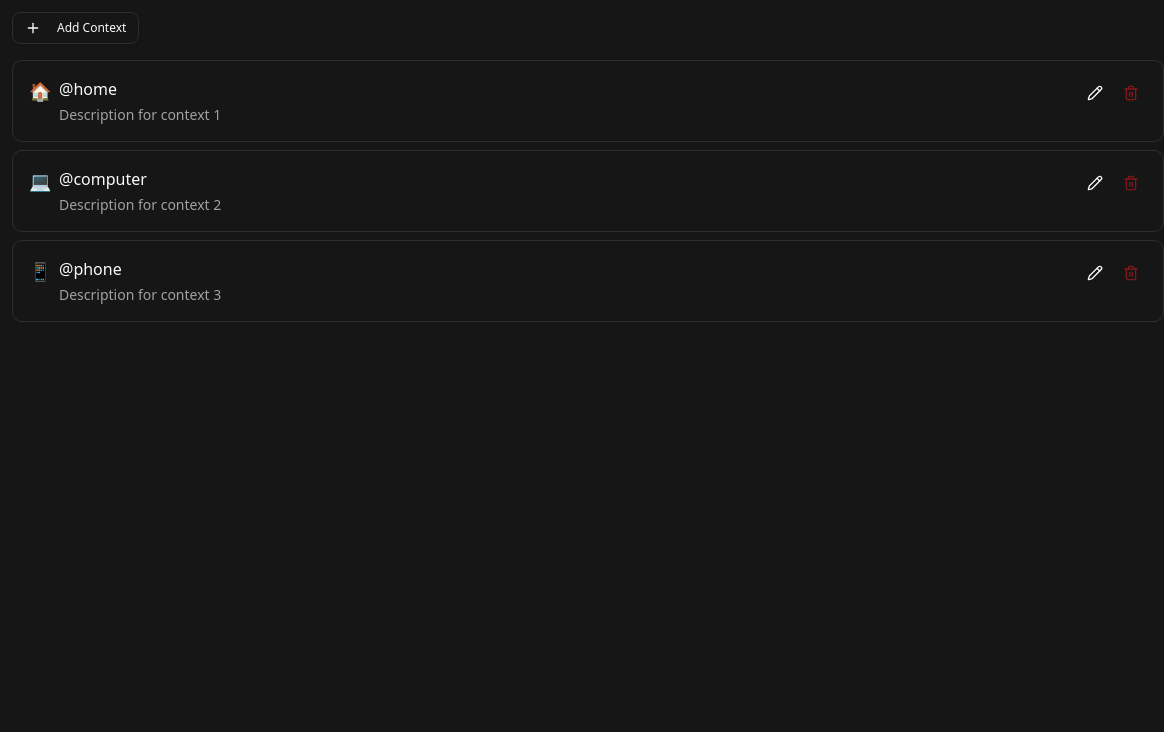
Scenario: ContextManager › creating contexts › validates that name is required
Click the button "Add Context".
click(76, 28)  # box top-left (12, 12), bottom-right (139, 44)
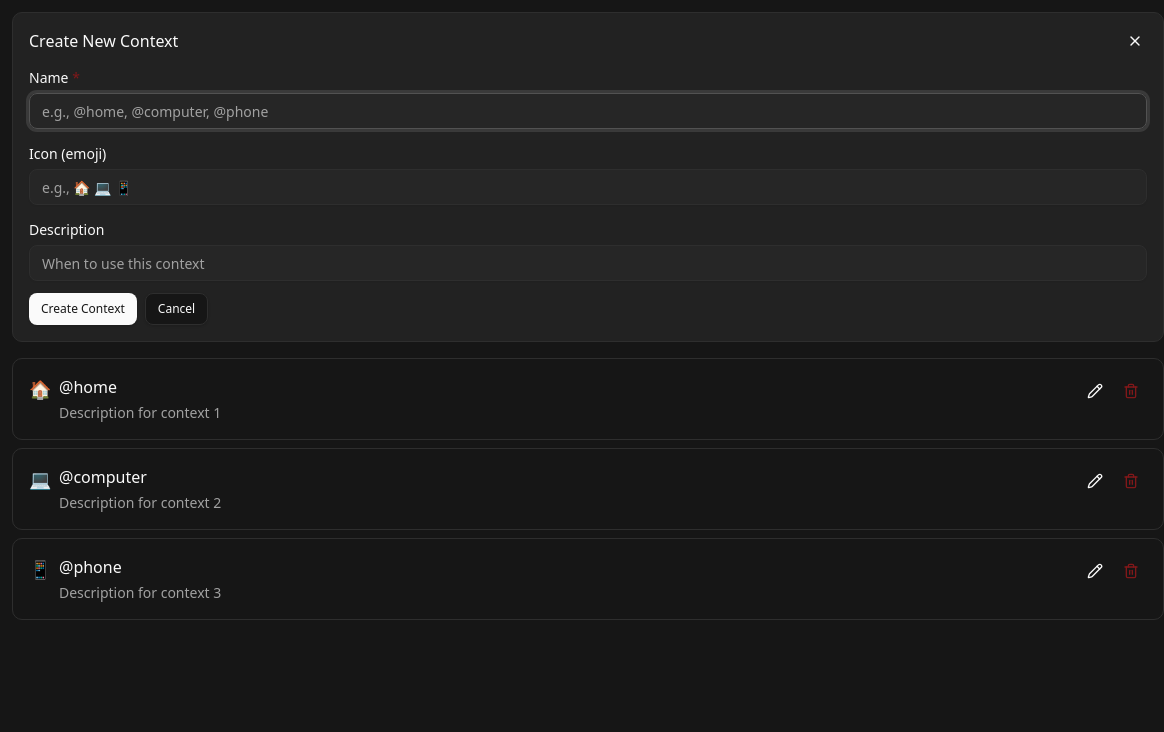
Click the button "Create Context".
click(83, 309)  # box top-left (29, 293), bottom-right (137, 325)
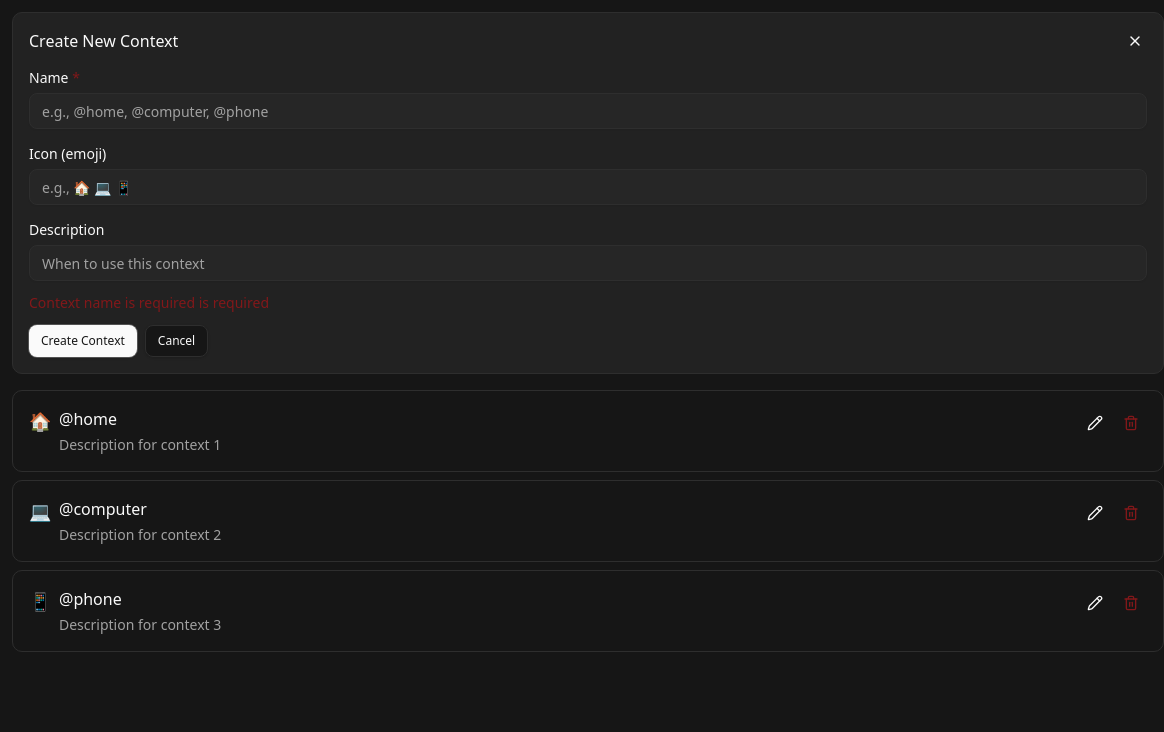
Result: the text "Context name is required is required" is shown at top-left (29, 293), bottom-right (269, 312)
